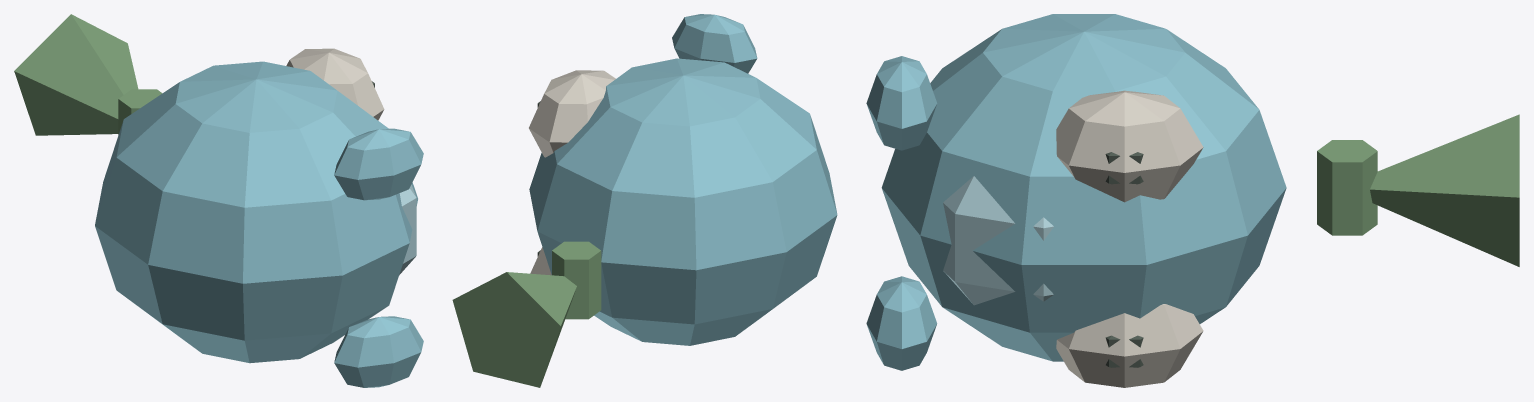
The model's file is minion_blue.fbx.
The picture shows the model from 3 angles, left to right: view 1: azimuth 30°, elevation 25°; view 2: azimuth 150°, elevation 25°; view 3: azimuth 270°, elevation 25°; orthographic projection. The views are drawn at different scales.
Visible parts, largest first — view 1: minion_blue; view 2: minion_blue; view 3: minion_blue.
Part boxes in pixels (<box>): minion_blue: <box>14,14,423,387</box>; minion_blue: <box>452,14,837,387</box>; minion_blue: <box>866,14,1519,387</box>.
Bounding box in the file's own units: 36.14 × 34 × 64.5.
